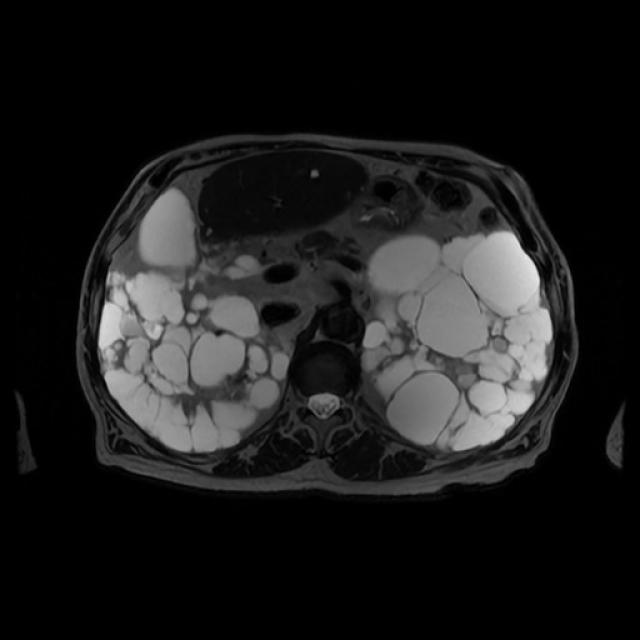sag: (98, 258, 294, 453)
sol: (362, 231, 554, 452)
